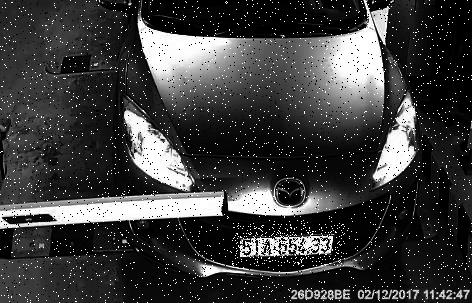License-plate: (234, 224, 347, 267)
